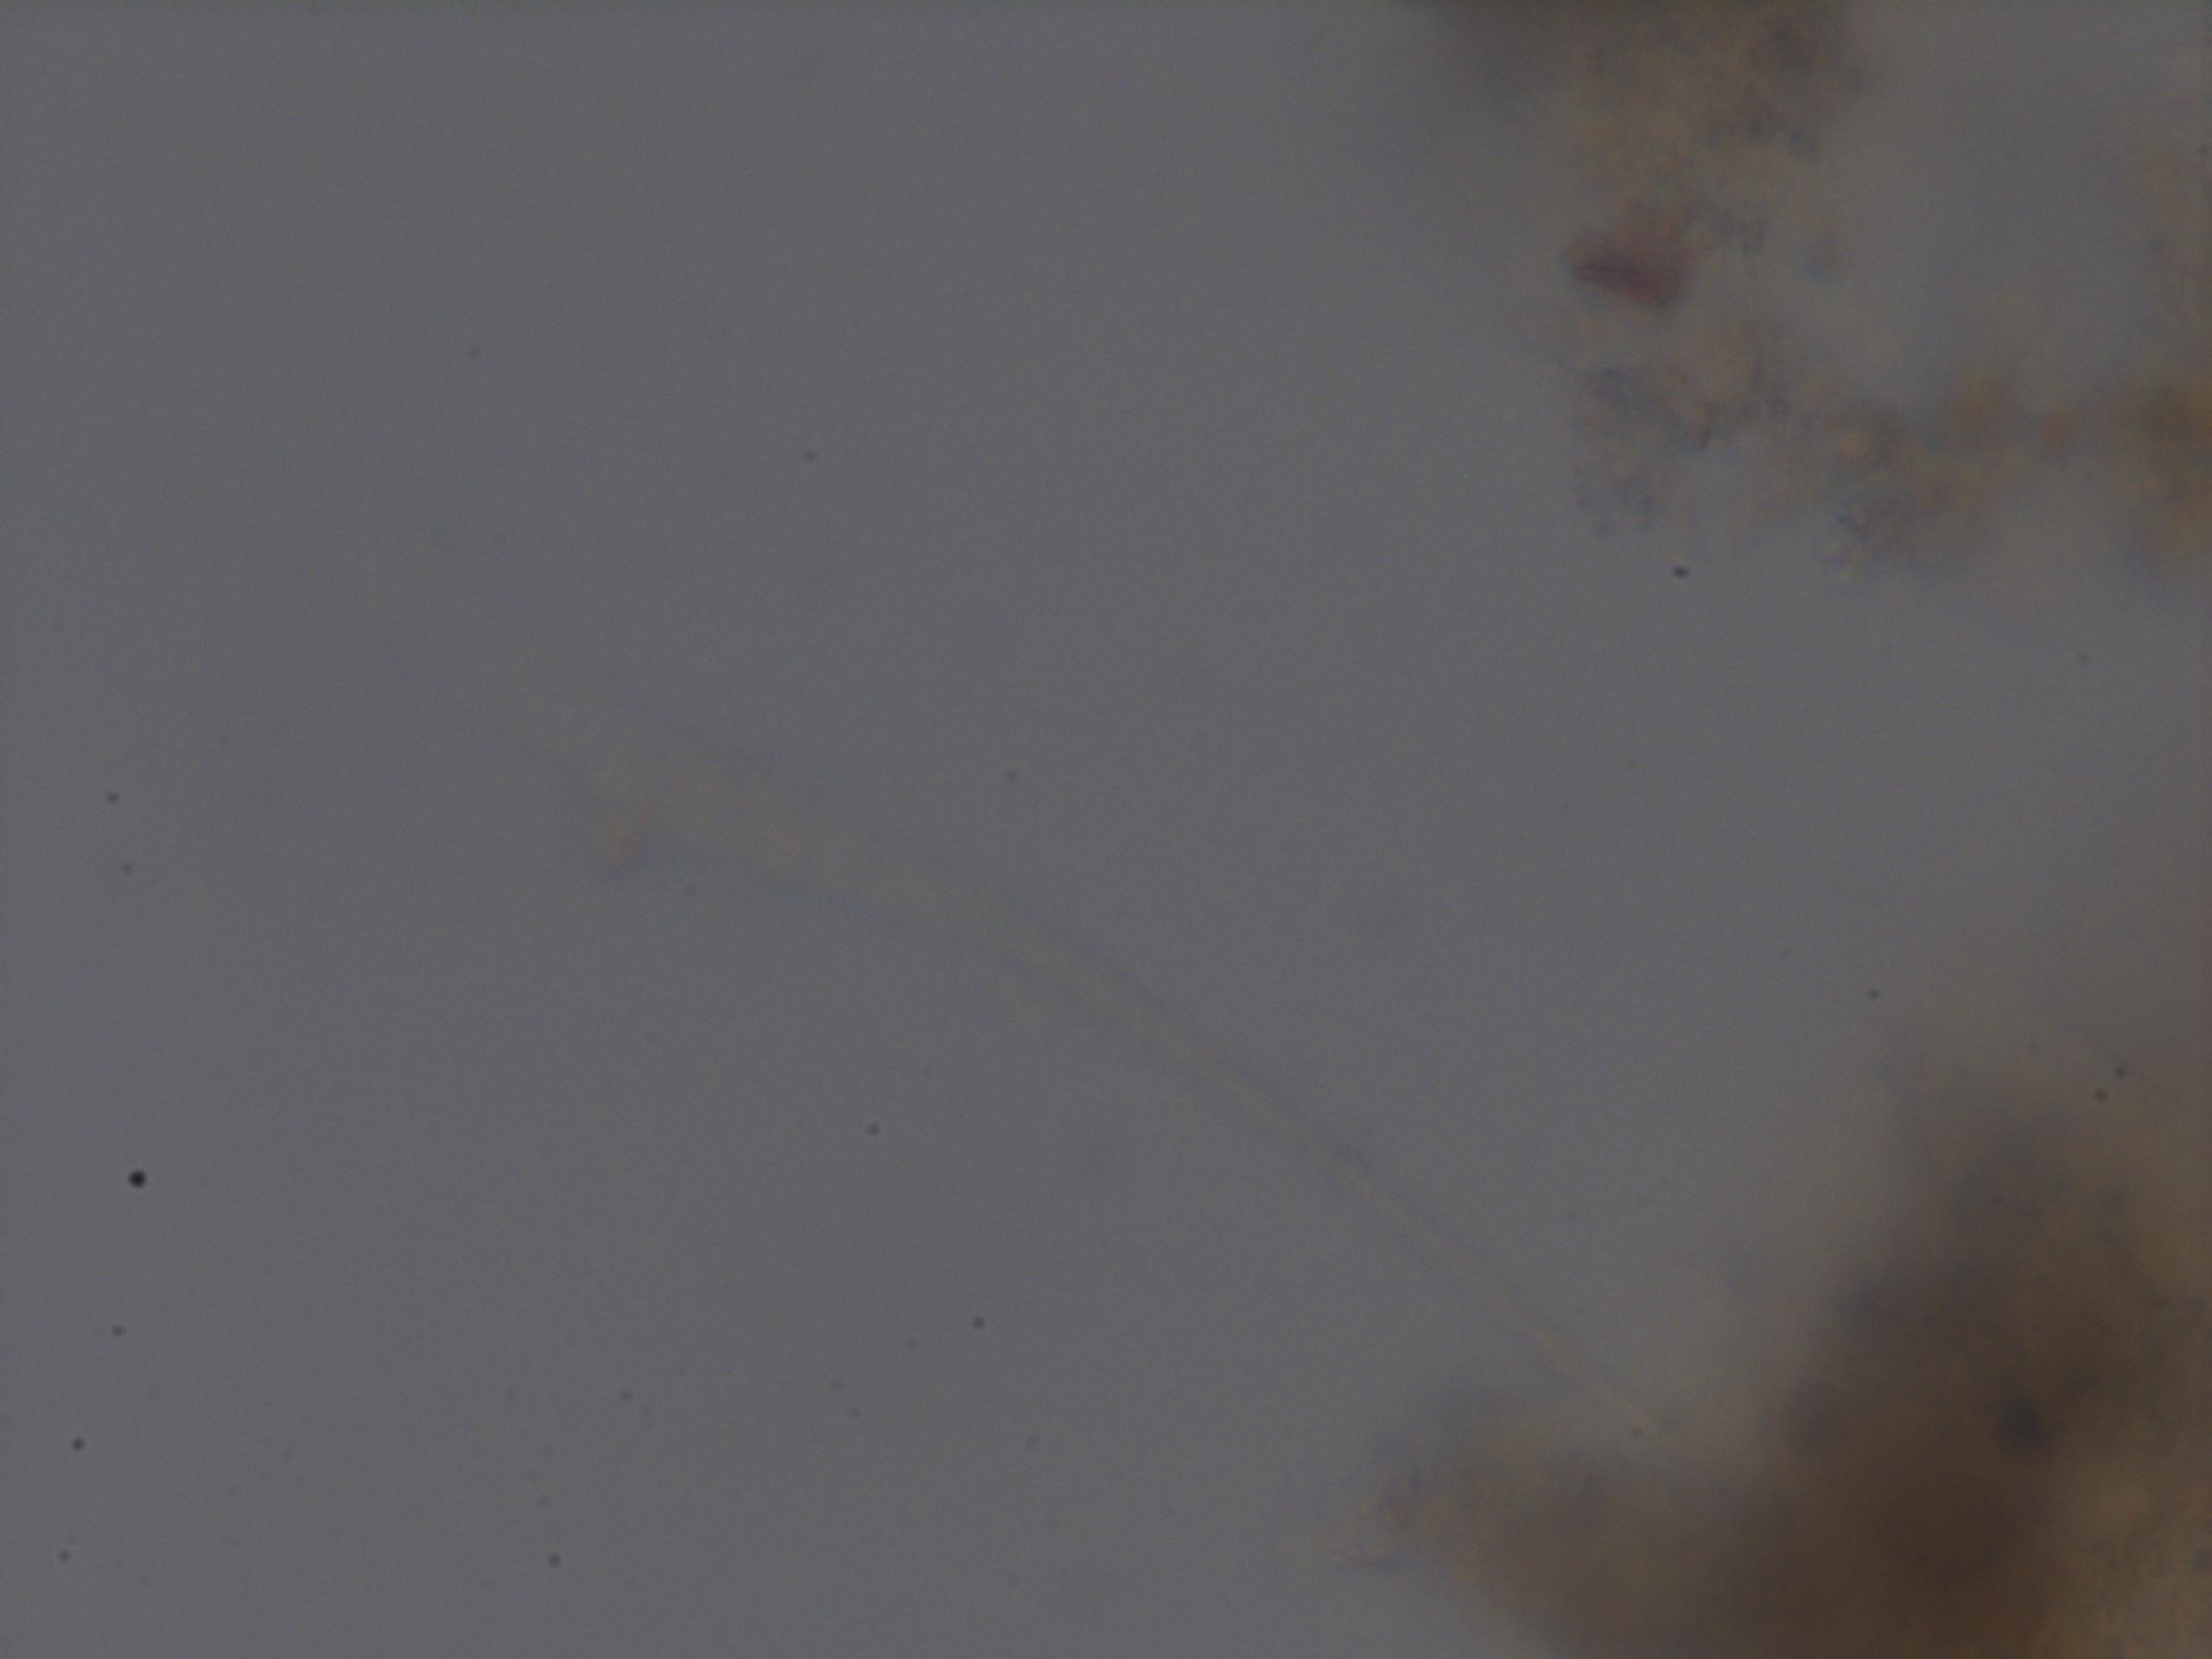filament: (263, 481, 1665, 1419)
